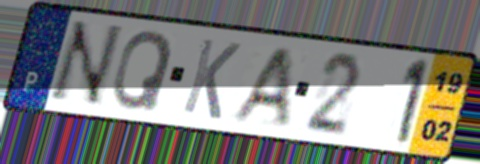1: (393, 56, 435, 148)
2: (301, 50, 364, 140)
A: (224, 46, 296, 127)
K: (179, 35, 244, 123)
N: (43, 18, 127, 109)
Q: (109, 28, 177, 114)
